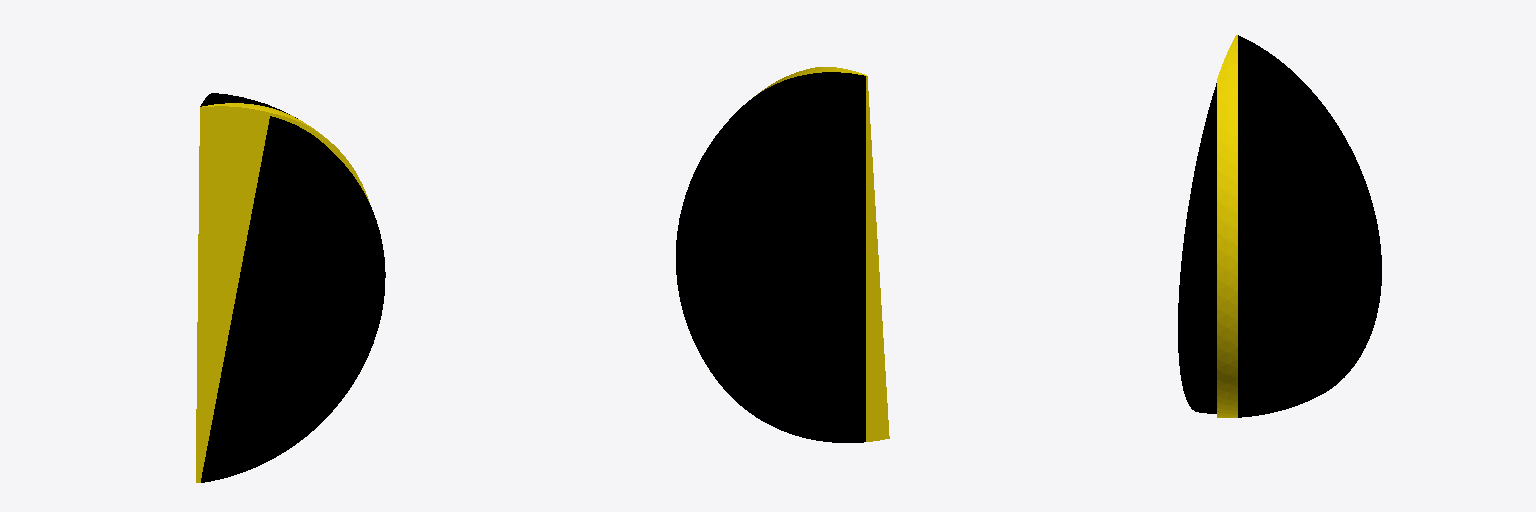
File: sliced_ball3.obj
The picture shows the model from 3 angles: view 1: azimuth 30°, elevation 25°; view 2: azimuth 150°, elevation 25°; view 3: azimuth 270°, elevation 25°; orthographic projection.
Visible parts, largest first — view 1: Object.3, Object.2, Object.4; view 2: Object.1, Object.2; view 3: Object.1, Object.2, Object.3, Object.4.
Part boxes in pixels (x1,y1,x2,y2): Object.3: (201,116,353,482); Object.2: (196,103,369,482); Object.4: (305,177,385,436); Object.1: (676,72,865,442); Object.2: (754,67,889,441); Object.1: (1238,35,1381,417); Object.2: (1217,35,1237,417); Object.3: (1192,83,1216,413); Object.4: (1178,188,1191,408).
Bounding box in the file's own units: 0.5187 × 0.9991 × 0.5042.